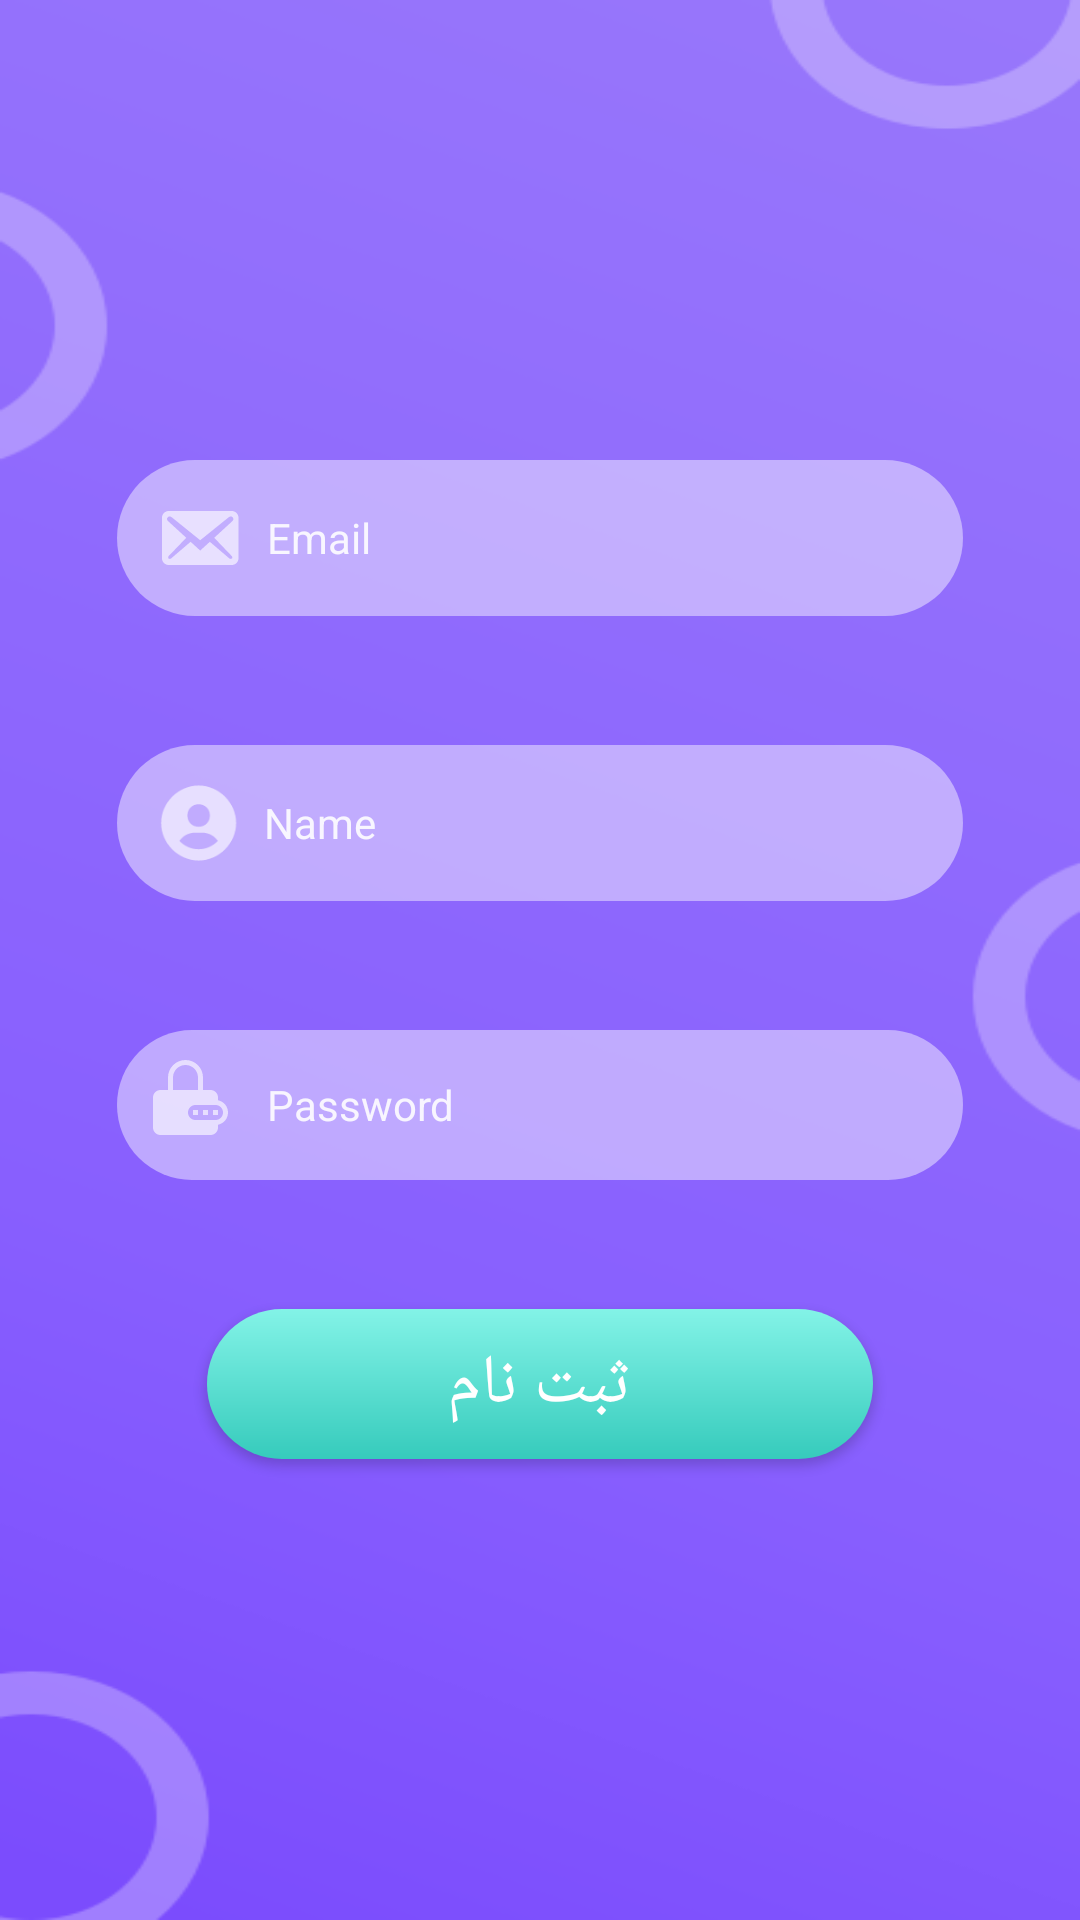

Icons on this 1080w x 1920h Android screen, each with the point to tap as (x,y):
prof: (198,823)
